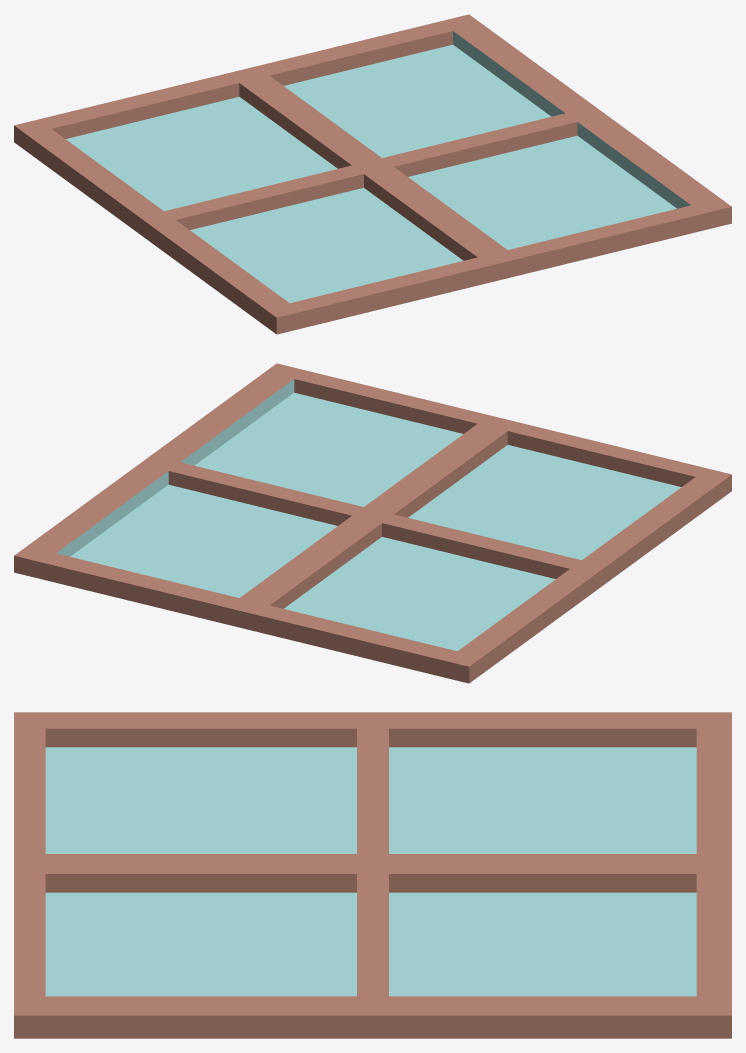
The model's file is cam.fbx.
The picture shows the model from 3 angles, top to bottom: view 1: azimuth 30°, elevation 25°; view 2: azimuth 150°, elevation 25°; view 3: azimuth 270°, elevation 25°; orthographic projection. The views are drawn at different scales.
Parts seen in each view (by area): view 1: Plane.006; view 2: Plane.006; view 3: Plane.006.
Part boxes in pixels (left/top/right/bottom): Plane.006: left=14, top=14, right=731, bottom=334; Plane.006: left=14, top=363, right=731, bottom=683; Plane.006: left=14, top=712, right=731, bottom=1038.
Size of the model in its own units: 200 by 7.07 by 200.
